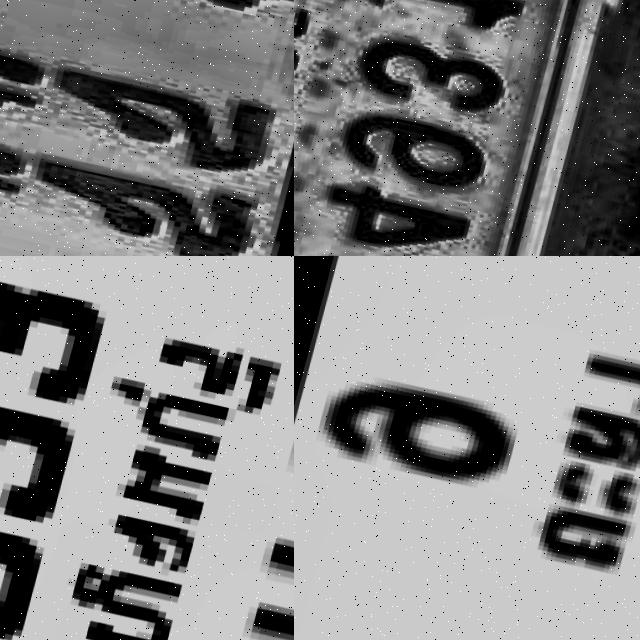license-plate: (294, 256, 640, 640), (0, 256, 294, 640), (294, 0, 634, 256), (0, 0, 294, 256)
